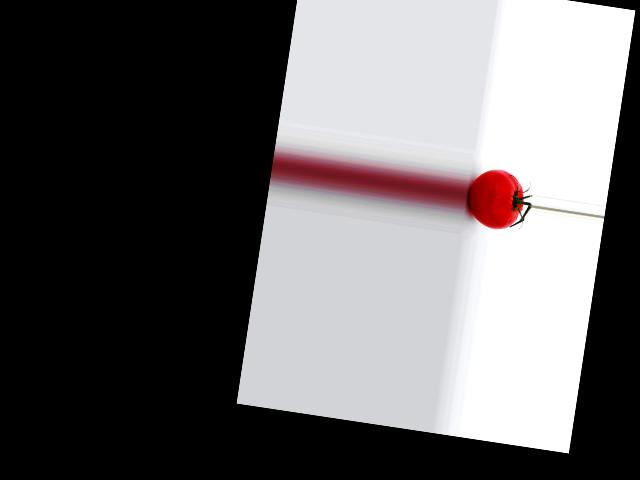tomato: (464, 164, 527, 231)
